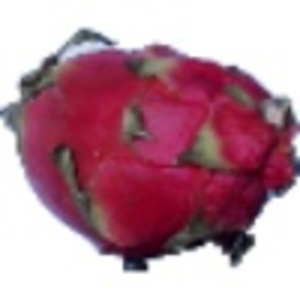pitaia: (1, 27, 300, 274)
